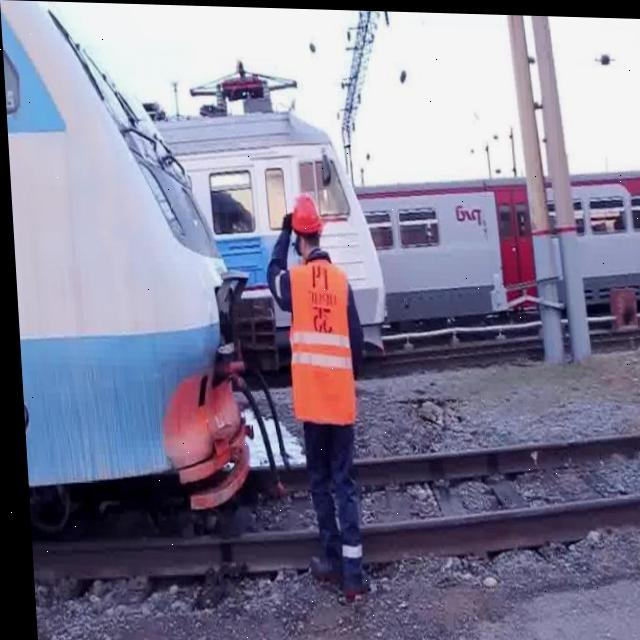Helmet: (288, 191, 322, 233)
Safety-Vest: (280, 256, 354, 424)
